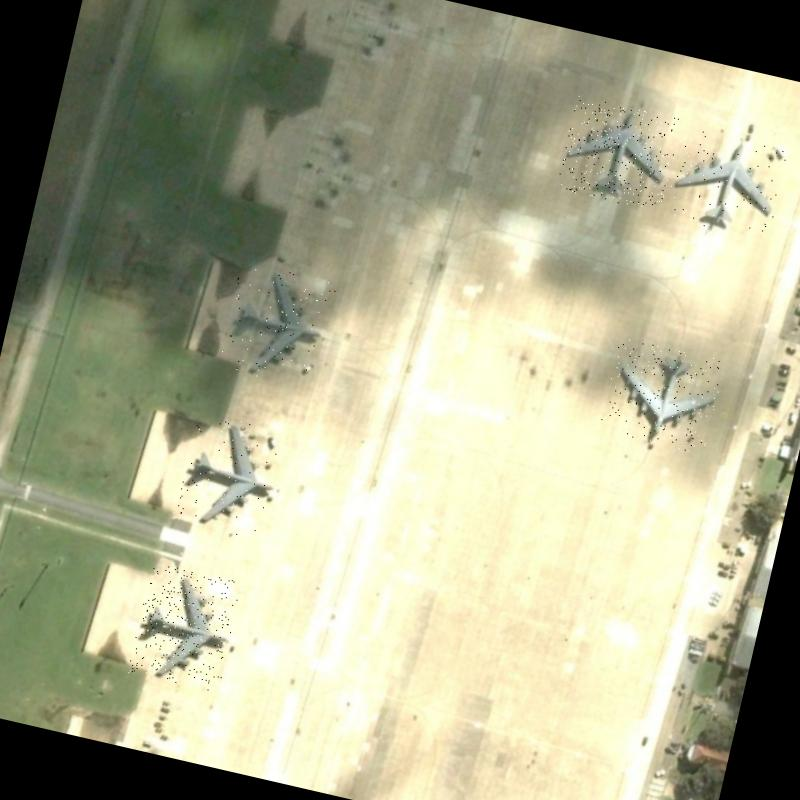A8: (216, 260, 336, 390), (170, 410, 287, 542), (127, 562, 243, 694), (554, 94, 682, 212), (598, 336, 726, 454), (662, 123, 790, 240)
